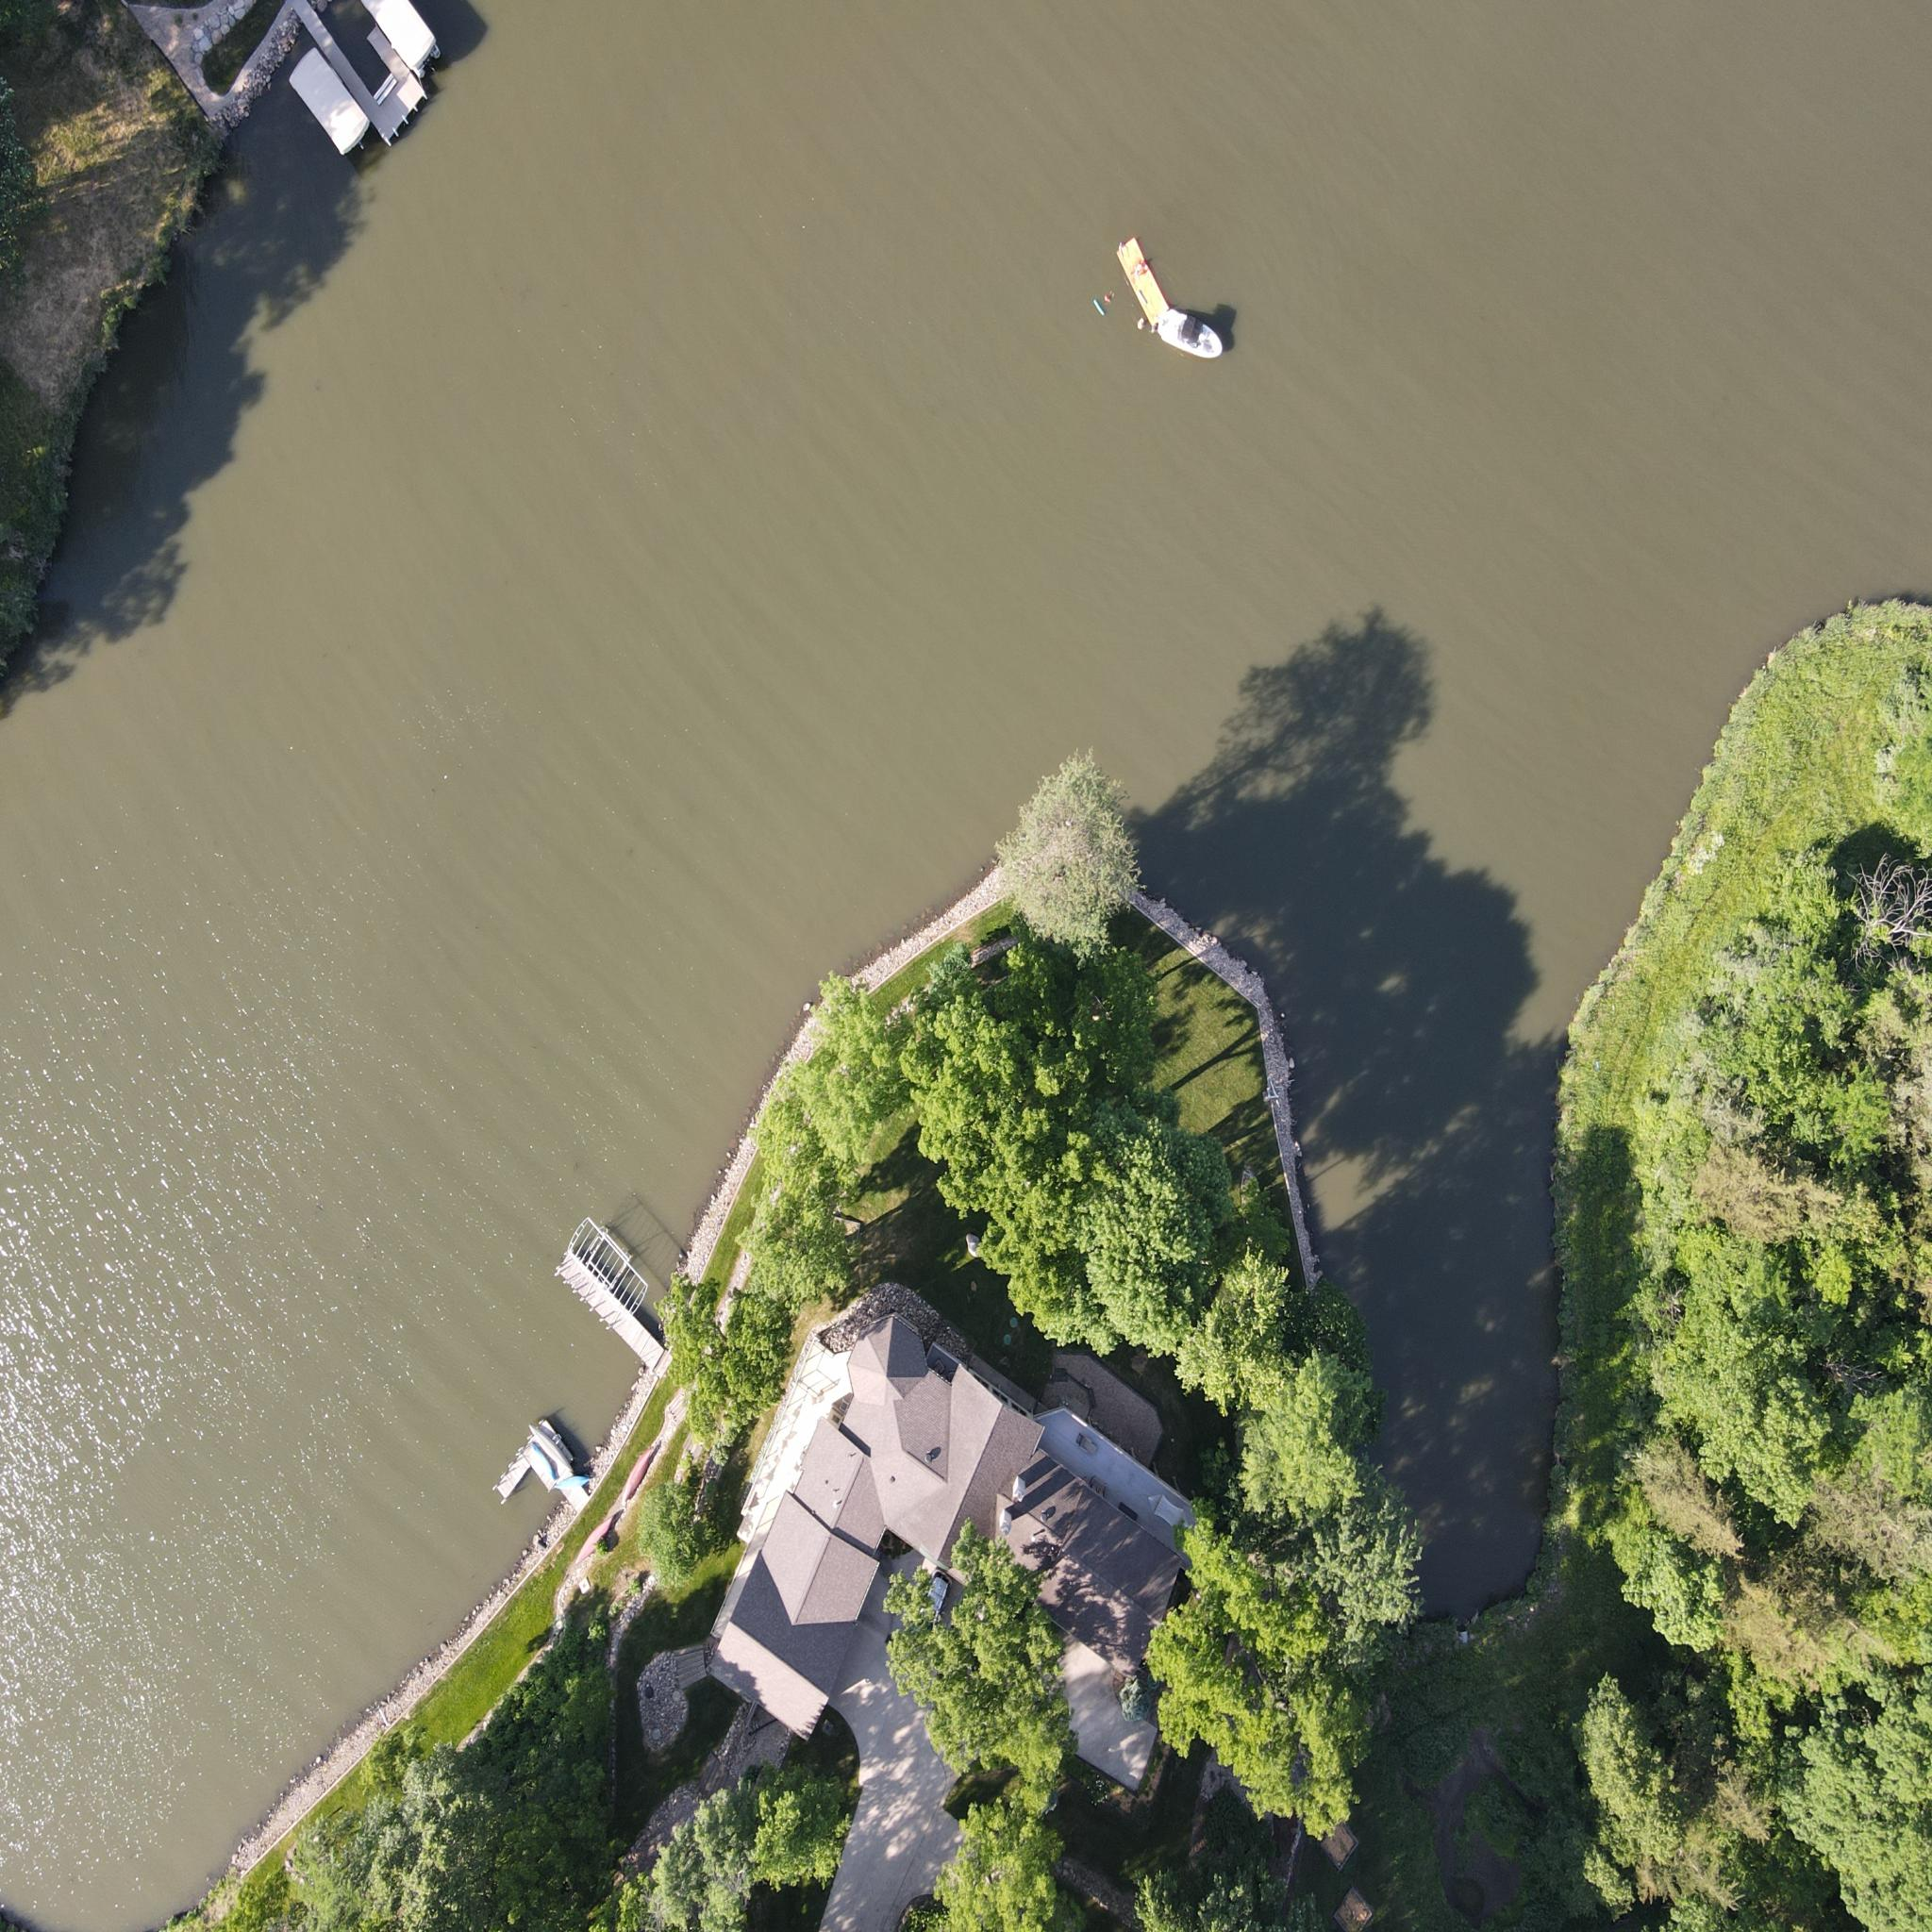boat: (1161, 301, 1224, 368)
dock: (283, 0, 433, 145), (552, 1238, 665, 1382), (495, 1408, 591, 1529)
lift: (288, 48, 375, 168), (564, 1207, 649, 1327), (354, 0, 439, 62)
